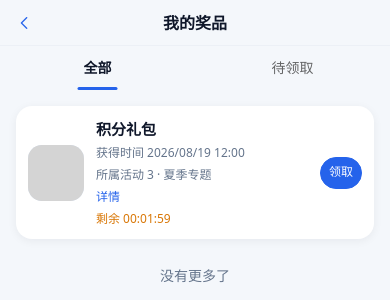
Test case: MinePrizesPage › renders claimable WON with countdown and claims to 已到账
The image size is (390, 300).
Expected: the text with test id "prize-obtained-at" shows "获得时间", [96,144,245,161]
Expected: the text with test id "prize-activity" shows "3", [96,166,212,183]
Click the button with test id "prize-action-11".
click(341, 172)  # box [320,156,362,188]
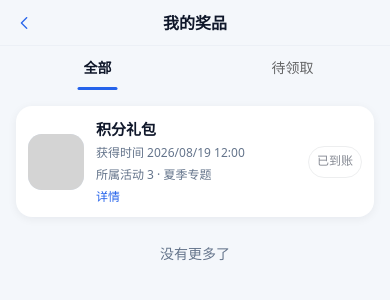
Expected: the button with test id "prize-action-11" reads "已到账", [308,146,362,178]
